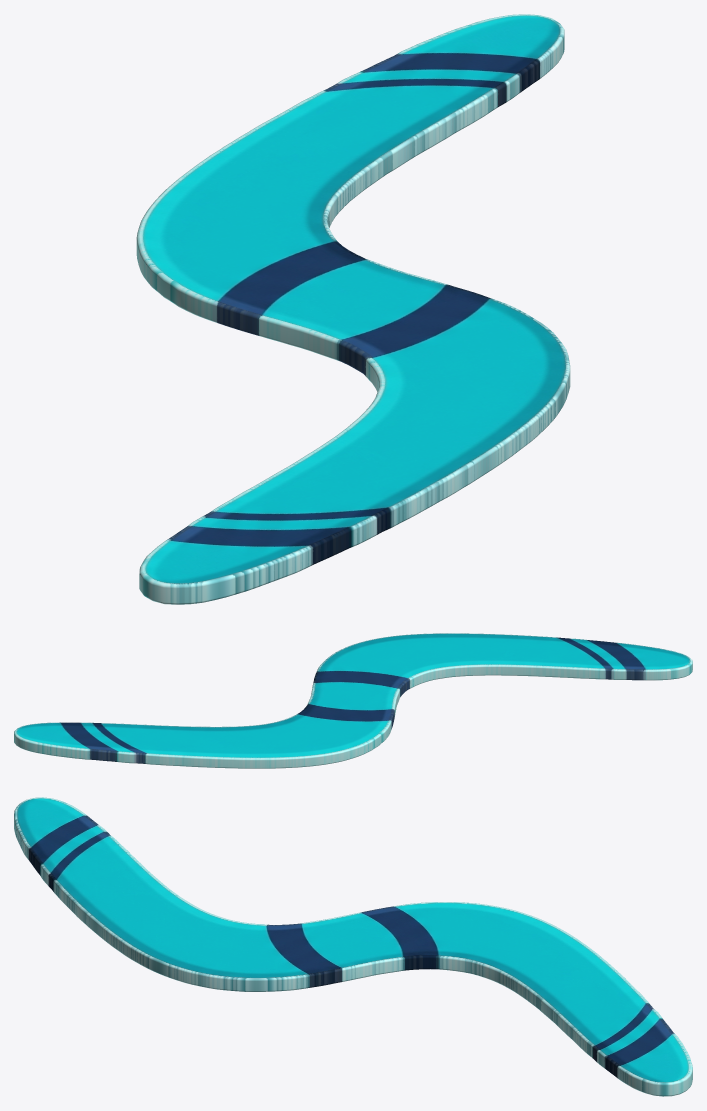
File: Boomerang_6.fbx
3 views of the same model, one above another, from view 1: azimuth 30°, elevation 25°; view 2: azimuth 150°, elevation 25°; view 3: azimuth 270°, elevation 25° (orthographic). The views are drawn at different scales.
Visible parts, largest first — view 1: Boomerang_6; view 2: Boomerang_6; view 3: Boomerang_6.
Boxes of the visible parts, left/top/right/bottom form: Boomerang_6: left=136, top=14, right=570, bottom=604; Boomerang_6: left=14, top=633, right=692, bottom=768; Boomerang_6: left=14, top=797, right=692, bottom=1096.
Bounding box in the file's own units: 202 × 4.4 × 202.
1 material, 1 textured.
